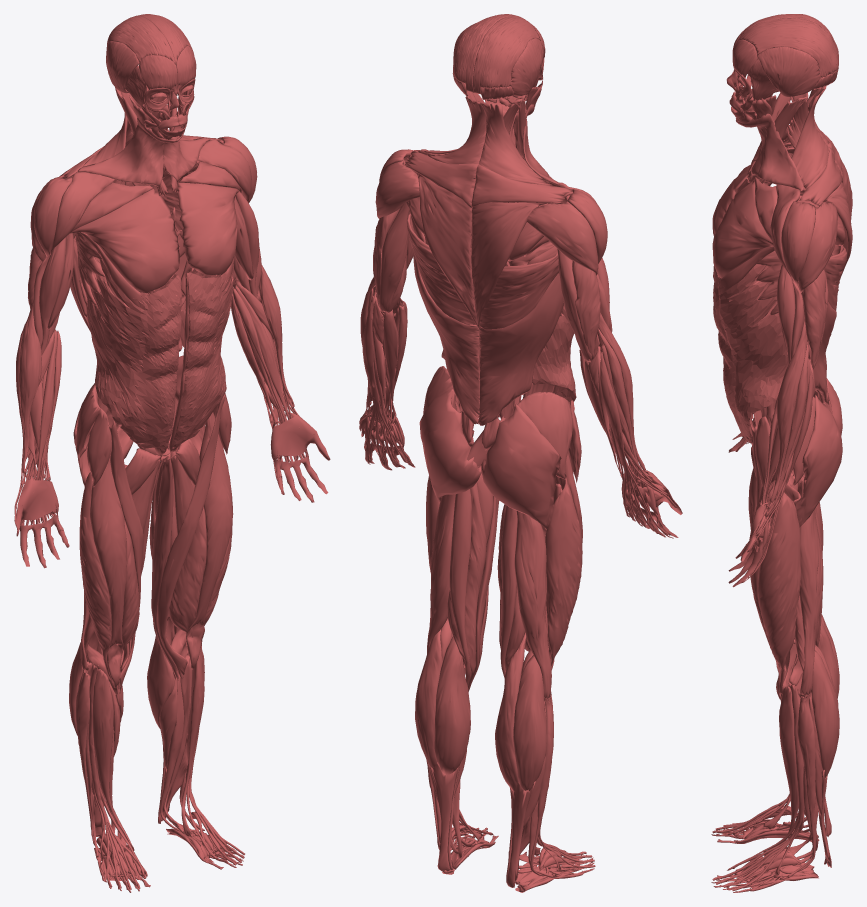
Rendered from muscles.glb.
3 views of the same model, side by side, from view 1: azimuth 30°, elevation 25°; view 2: azimuth 150°, elevation 25°; view 3: azimuth 270°, elevation 25° (orthographic). The views are drawn at different scales.
Parts seen in each view (by area): view 1: External abdominal oblique muscle.r, External abdominal oblique muscle.l, Sternocostal head of pectoralis major muscle.r, Sternocostal head of pectoralis major muscle.l, Rectus femoris muscle.r, Rectus femoris muscle.l, Sartorius muscle.l, Vastus lateralis muscle.r, Platysma.r, Palmar aponeurosis.l, Palmar aponeurosis.r, Vastus medialis muscle.l (+48 smaller); view 2: Latissimus dorsi muscle.r, Gluteus maximus muscle.r, Latissimus dorsi muscle.l, Vastus lateralis muscle.r, Descending part of trapezius muscle.l, Long head of biceps femoris.r, Descending part of trapezius muscle.r, Gluteus maximus muscle.l, Medial head of gastrocnemius.l, Lateral head of gastrocnemius.r, Epicranial aponeurosis.r, Scapular spinal part of deltoid muscle.r (+36 smaller); view 3: External abdominal oblique muscle.l, Vastus lateralis muscle.l, Sternocostal head of pectoralis major muscle.l, Gluteus maximus muscle.l, Long head of biceps femoris.l, Epicranial aponeurosis.l, Temporoparietalis muscle.l, Lateral head of gastrocnemius.l, Platysma.l, Brachioradialis muscle.l, Acromial part of deltoid muscle.l, Ascending part of trapezius muscle.l (+42 smaller).
Boxes of the visible parts, x1,y1,x2,y2 form: External abdominal oblique muscle.r: (86,259,181,450); External abdominal oblique muscle.l: (172,264,233,448); Sternocostal head of pectoralis major muscle.r: (70,189,179,293); Sternocostal head of pectoralis major muscle.l: (177,182,238,275); Rectus femoris muscle.r: (90,441,127,687); Rectus femoris muscle.l: (186,412,233,669); Sartorius muscle.l: (157,394,224,678); Vastus lateralis muscle.r: (79,472,111,680); Platysma.r: (78,117,175,186); Palmar aponeurosis.l: (270,414,330,502); Palmar aponeurosis.r: (15,479,69,568); Vastus medialis muscle.l: (169,507,206,653); Latissimus dorsi muscle.r: (478,253,563,425); Gluteus maximus muscle.r: (481,404,561,529); Latissimus dorsi muscle.l: (407,213,479,424); Vastus lateralis muscle.r: (545,477,582,665); Descending part of trapezius muscle.l: (418,173,478,328); Long head of biceps femoris.r: (514,511,551,698); Descending part of trapezius muscle.r: (471,202,547,328); Gluteus maximus muscle.l: (419,388,481,502); Medial head of gastrocnemius.l: (434,636,470,774); Lateral head of gastrocnemius.r: (513,655,546,791); Epicranial aponeurosis.r: (472,15,540,94); Scapular spinal part of deltoid muscle.r: (527,201,598,275); External abdominal oblique muscle.l: (713,264,788,443); Vastus lateralis muscle.l: (758,492,801,694); Sternocostal head of pectoralis major muscle.l: (712,181,773,278); Gluteus maximus muscle.l: (795,394,842,526); Long head of biceps femoris.l: (799,509,823,696); Epicranial aponeurosis.l: (736,18,838,78); Temporoparietalis muscle.l: (757,46,819,96); Lateral head of gastrocnemius.l: (811,650,839,777); Platysma.l: (736,113,803,191); Brachioradialis muscle.l: (769,319,807,503); Acromial part of deltoid muscle.l: (781,201,815,284); Ascending part of trapezius muscle.l: (791,86,828,189).
Size of the model in its own units: 0.6705 by 1.7 by 0.2586.
